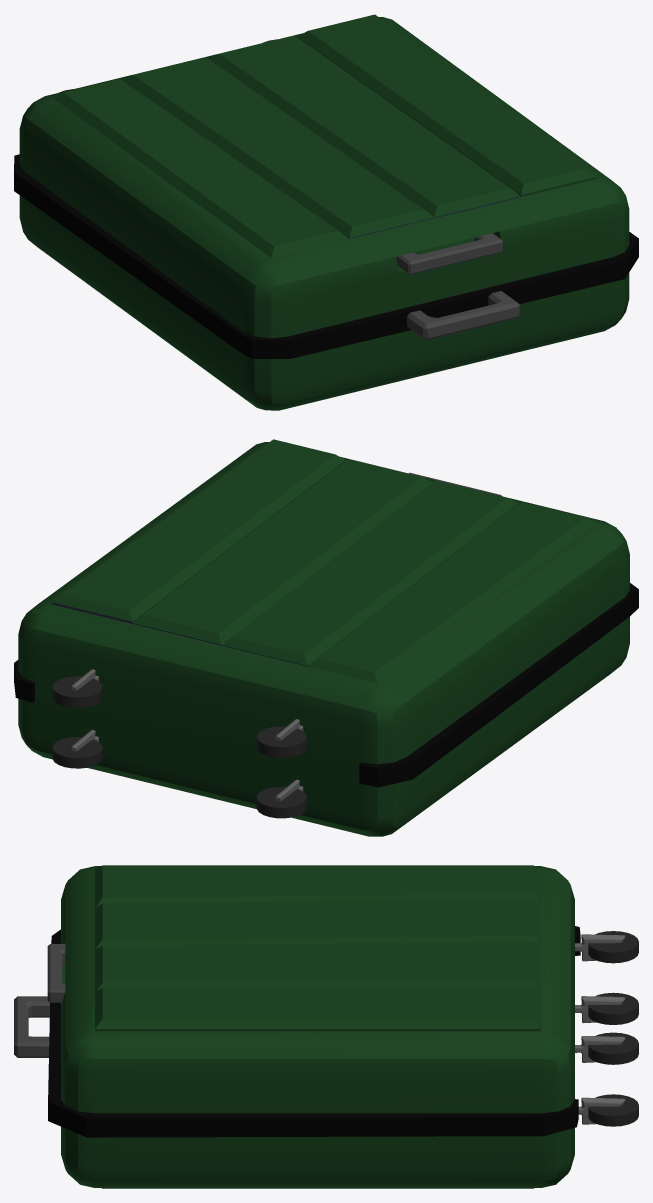
The model's file is valise vert.fbx.
3 views of the same model, one above another, from view 1: azimuth 30°, elevation 25°; view 2: azimuth 150°, elevation 25°; view 3: azimuth 270°, elevation 25° (orthographic). The views are drawn at different scales.
Parts seen in each view (by area): view 1: pCube1, pCube2, pasted__pCube2; view 2: pCube1, pasted__pasted__pasted__pCylinder1 (×2), pasted__pasted__pCylinder1, pasted__pasted__pasted__pasted__pCylinder1; view 3: pCube1, pasted__pasted__pasted__pCylinder1 (×2), pCube2, pasted__pasted__pasted__pCube2 (×2), pasted__pasted__pCylinder1, pasted__pasted__pasted__pasted__pCylinder1, pasted__pCube2, pasted__pasted__pCube2, pasted__pasted__pasted__pasted__pCube2.
Part boxes in pixels (x1=…): pCube1: x1=14, y1=14, x2=638, y2=410; pCube2: x1=407, y1=291, x2=519, y2=340; pasted__pCube2: x1=396, y1=233, x2=502, y2=274; pCube1: x1=14, y1=439, x2=638, y2=836; pasted__pasted__pasted__pCylinder1 (×2): x1=52, y1=726, x2=306, y2=768; pasted__pasted__pCylinder1: x1=52, y1=676, x2=102, y2=707; pasted__pasted__pasted__pasted__pCylinder1: x1=256, y1=787, x2=306, y2=818; pCube1: x1=48, y1=865, x2=580, y2=1188; pasted__pasted__pasted__pCylinder1 (×2): x1=588, y1=931, x2=638, y2=1126; pCube2: x1=14, y1=996, x2=49, y2=1057; pasted__pasted__pasted__pCube2 (×2): x1=575, y1=934, x2=625, y2=1124; pasted__pasted__pCylinder1: x1=588, y1=1032, x2=638, y2=1064; pasted__pasted__pasted__pasted__pCylinder1: x1=588, y1=992, x2=638, y2=1024; pasted__pCube2: x1=47, y1=944, x2=65, y2=1002; pasted__pasted__pCube2: x1=575, y1=1036, x2=625, y2=1062; pasted__pasted__pasted__pasted__pCube2: x1=575, y1=996, x2=625, y2=1023.
Size of the model in its own units: 1.87 by 0.7376 by 2.46.
